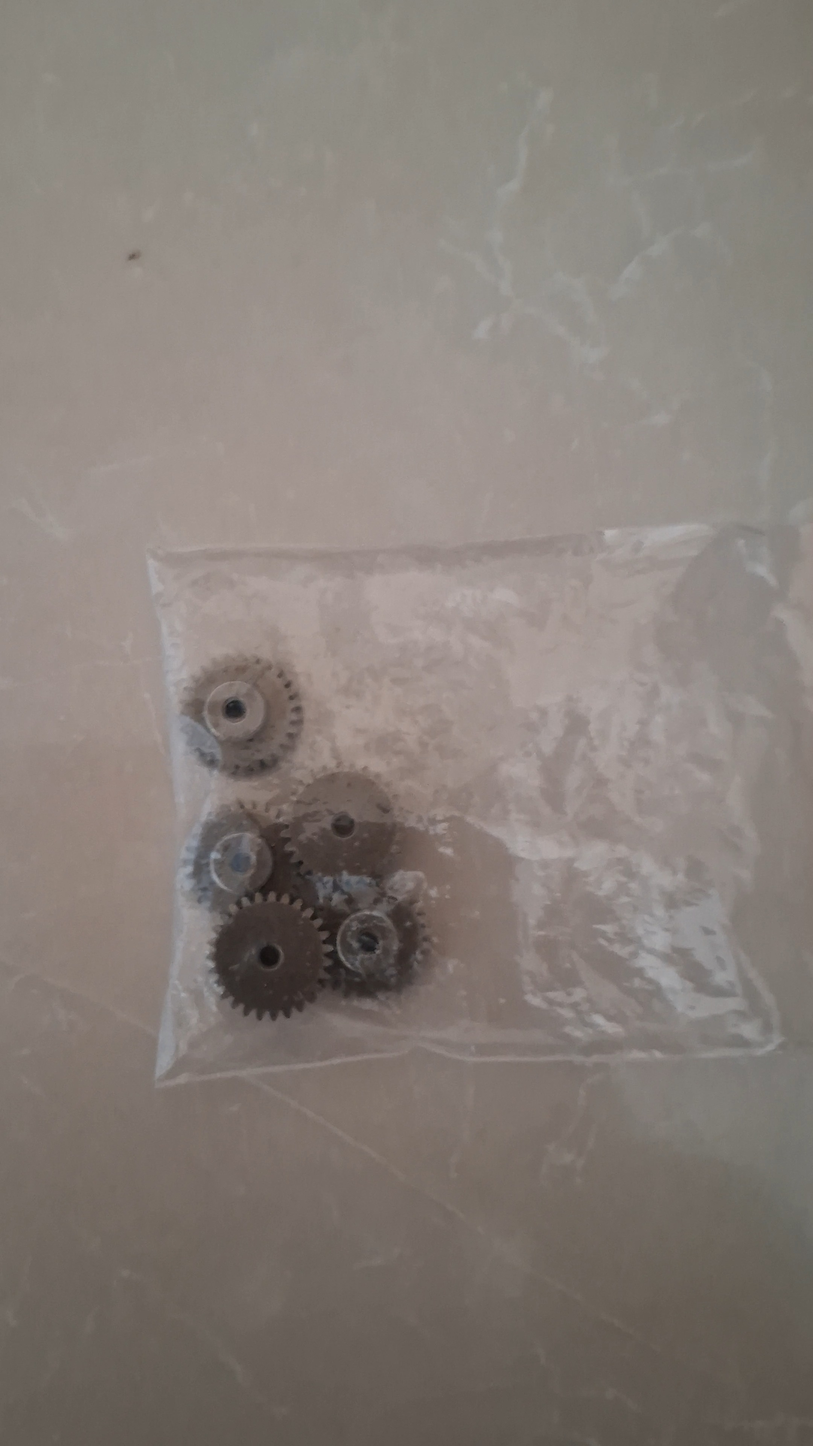spur gear: (210, 894, 327, 1019), (180, 656, 302, 775), (288, 772, 398, 877), (181, 804, 288, 911), (329, 898, 428, 994)
